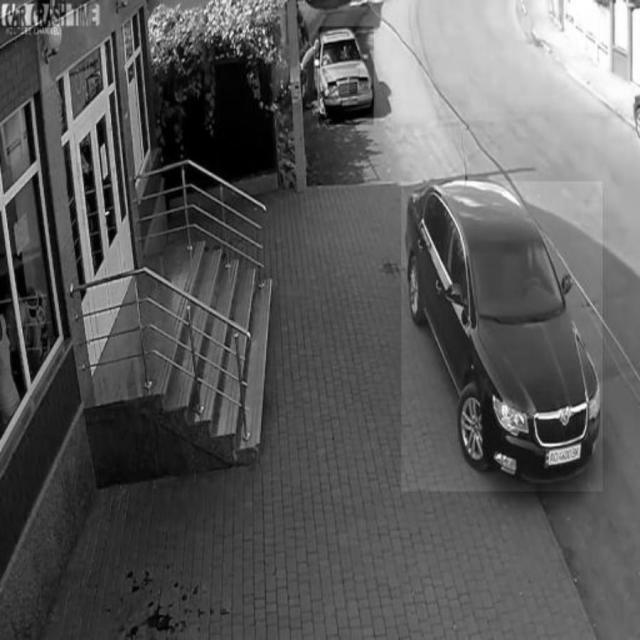vehicle: (402, 182, 603, 492), (319, 27, 374, 125)
